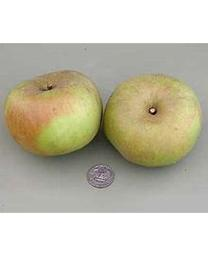apple: (102, 72, 202, 167), (2, 69, 101, 156)
